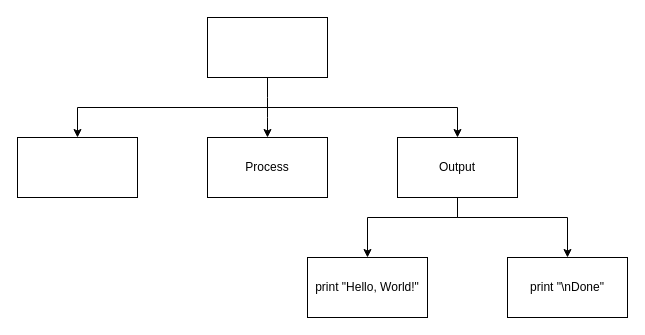
The diagram is 645 pixels wide and 335 high, and some of its shapes have lost their labels. The shapes that lost their labels are listed below. From the top down, each one's centre as x and y in pixels, then its label:
At [267,47]: "Intro-06".
At [77,167]: "Input".
